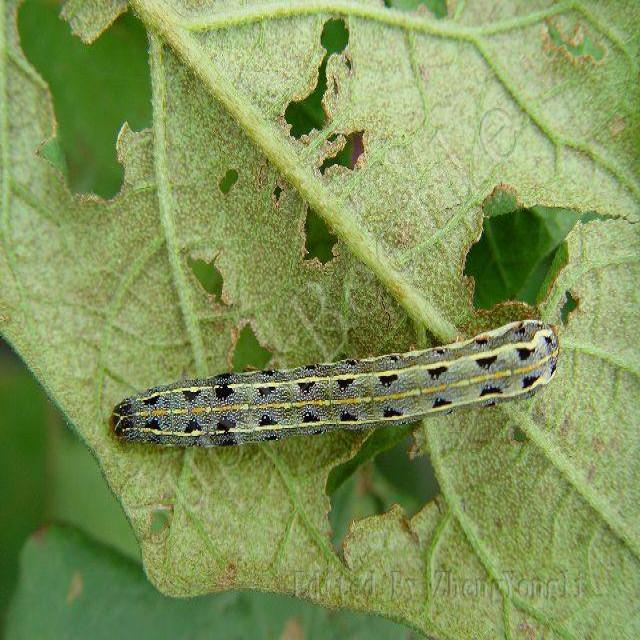armyworm: (111, 321, 583, 448)
